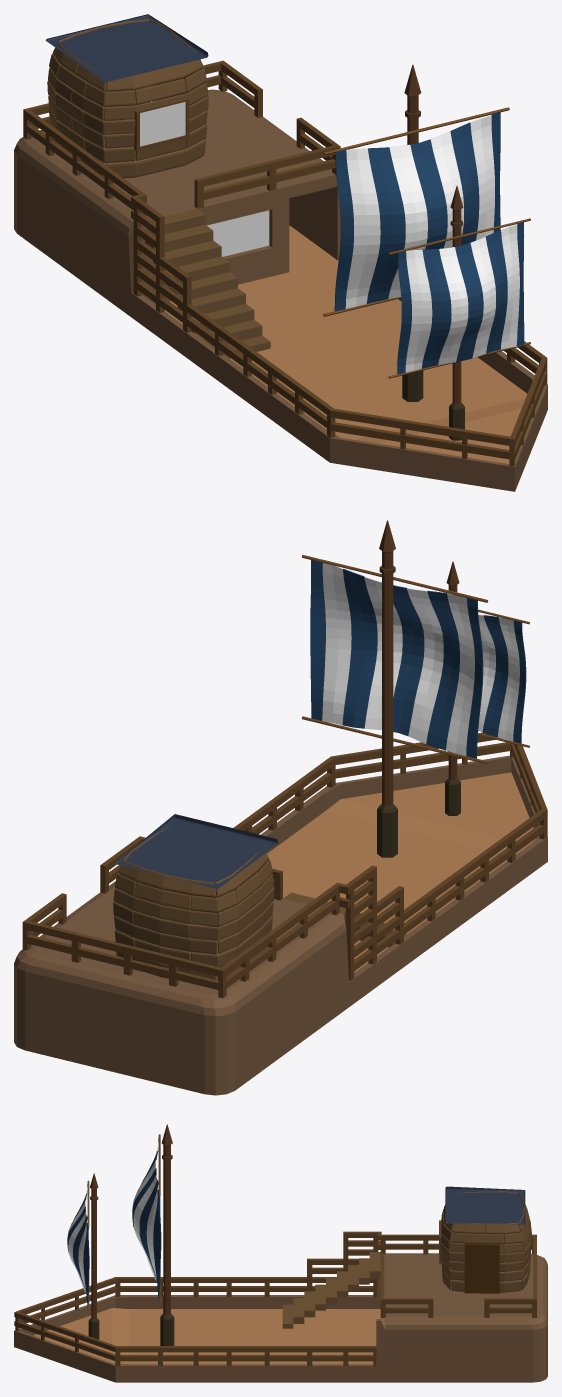
File: Ticaret Gemisi2.fbx
The picture shows the model from 3 angles, top to bottom: view 1: azimuth 30°, elevation 25°; view 2: azimuth 150°, elevation 25°; view 3: azimuth 270°, elevation 25°; orthographic projection. The views are drawn at different scales.
Visible parts, largest first — view 1: Cube.147, Plane.079, Plane.078, Plane.050, Plane.044, Plane.042, Plane.048, Plane.045, Plane.049, Cube.220, Cube.221, Plane.046 (+24 smaller); view 2: Cube.147, Plane.079, Plane.050, Plane.078, Cylinder.055, Plane.044, Plane.042, Plane.046, Plane.045, Plane.047, Cube.165, Cube.166 (+12 smaller); view 3: Cube.147, Plane.050, Plane.079, Cylinder.055, Cube.157, Plane.078, Cylinder.053, Plane.042, Cube.208, Cube.209, Plane.044, Cube.215 (+20 smaller).
Boxes of the visible parts, <box> form: Cube.147: <box>14,89,547,491</box>; Plane.079: <box>334,112,500,311</box>; Plane.078: <box>397,222,524,374</box>; Plane.050: <box>45,14,208,82</box>; Plane.044: <box>49,53,207,106</box>; Plane.042: <box>53,19,203,91</box>; Plane.048: <box>49,85,207,162</box>; Plane.045: <box>48,63,208,120</box>; Plane.049: <box>54,100,205,178</box>; Cube.220: <box>331,408,510,445</box>; Cube.221: <box>331,422,509,459</box>; Plane.046: <box>47,71,208,134</box>; Cube.147: <box>14,755,547,1095</box>; Plane.079: <box>310,560,483,758</box>; Plane.050: <box>115,814,277,888</box>; Plane.078: <box>478,614,526,743</box>; Cylinder.055: <box>377,520,397,857</box>; Plane.044: <box>114,859,272,912</box>; Plane.042: <box>118,826,268,897</box>; Plane.046: <box>113,878,274,940</box>; Plane.045: <box>113,868,273,926</box>; Plane.047: <box>114,886,273,954</box>; Cube.165: <box>22,921,220,976</box>; Cube.166: <box>22,934,218,989</box>; Cube.147: <box>14,1253,547,1382</box>; Plane.050: <box>445,1186,525,1224</box>; Plane.079: <box>132,1138,161,1299</box>; Cylinder.055: <box>160,1124,174,1345</box>; Cube.157: <box>464,1243,499,1293</box>; Plane.078: <box>67,1184,89,1306</box>; Cylinder.053: <box>88,1173,99,1339</box>; Plane.042: <box>444,1191,528,1233</box>; Cube.208: <box>222,1346,376,1352</box>; Cube.209: <box>222,1355,376,1361</box>; Plane.044: <box>441,1208,530,1244</box>; Cube.215: <box>115,1346,221,1352</box>.
Size of the model in its own units: 2259 by 3365 by 7183.
